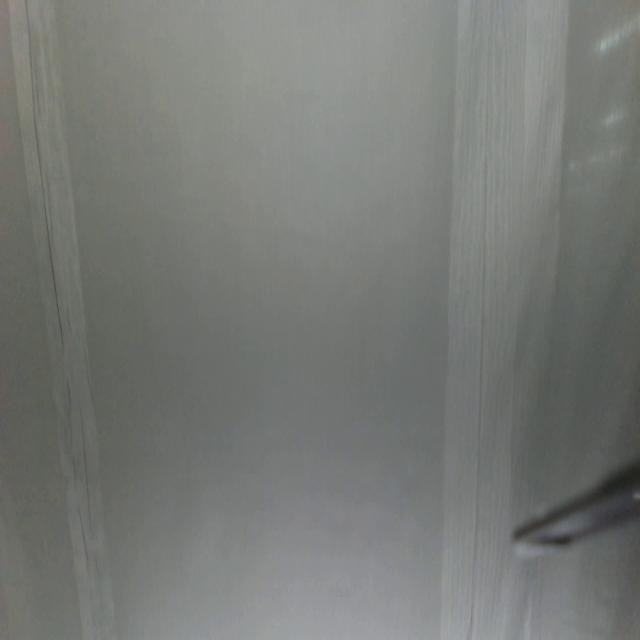crease: (8, 1, 116, 636), (445, 0, 570, 507)
